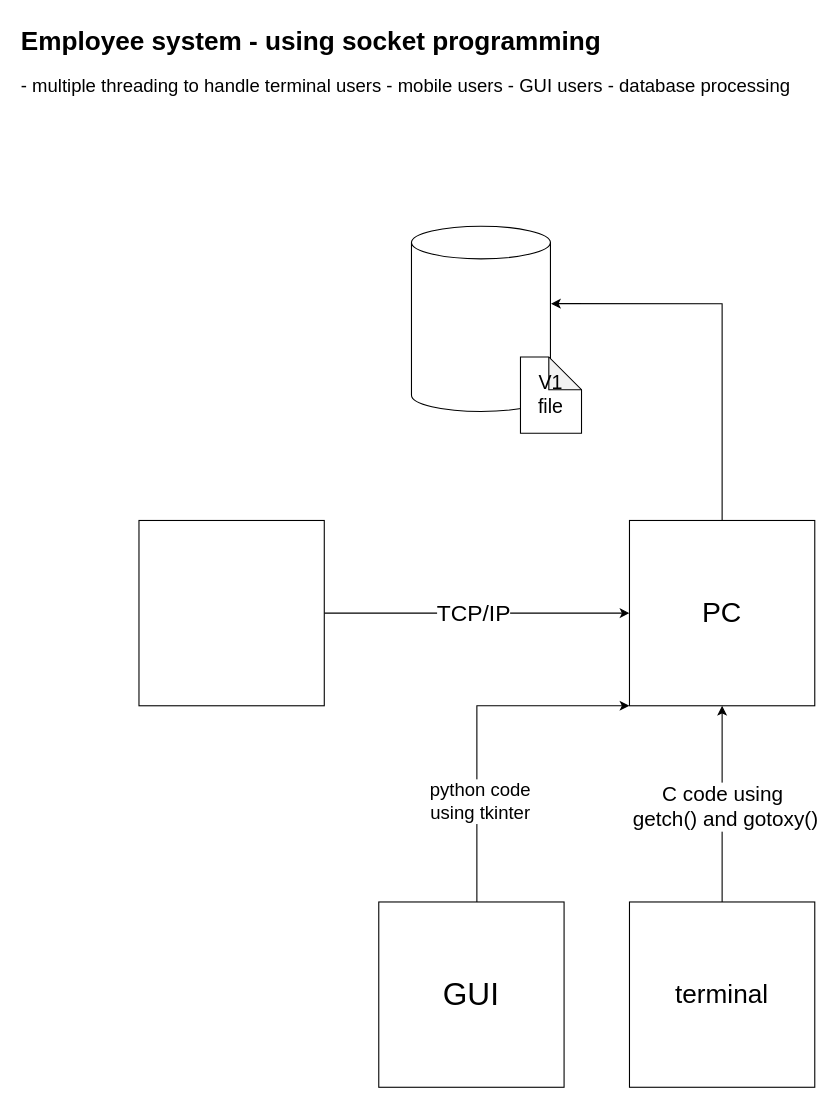
Some shapes in this 836 by 1106 pixel diagram are drawn without their labels. The shapes that lost their labels are listed below. From the top down, each one's centre as x and y in pixels, then its label:
At pixel 480 318: "V2 DataBase".
At pixel 231 612: "mobile".
